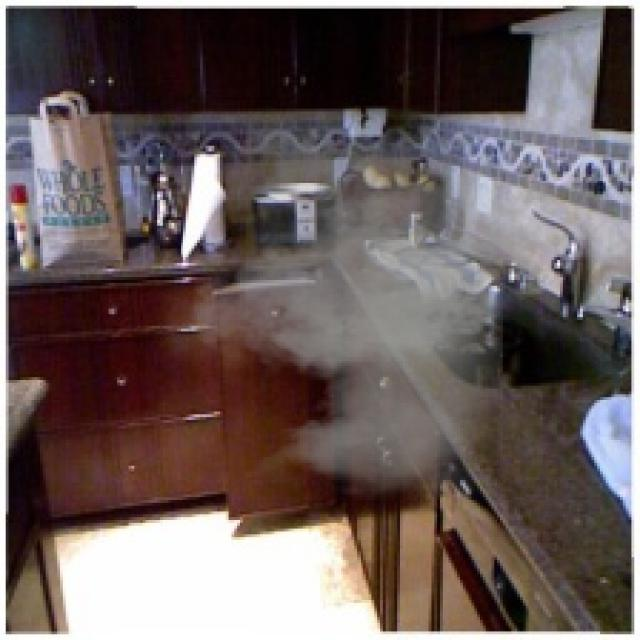smoke: (175, 129, 574, 500)
